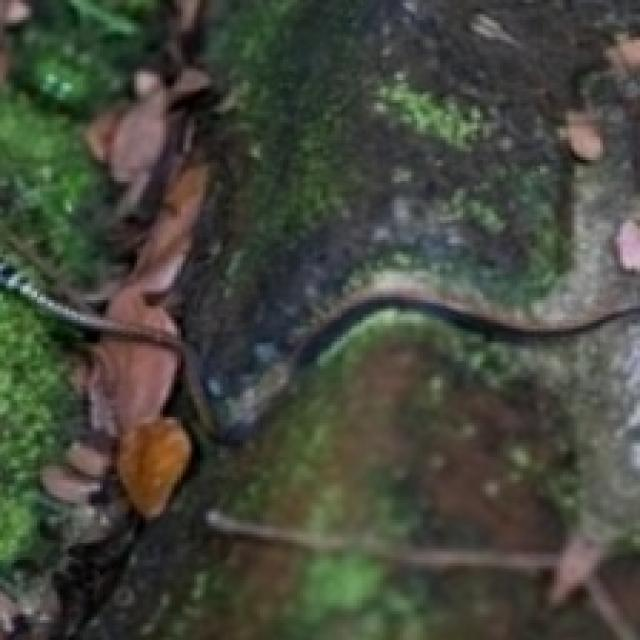paradise tree snake: (0, 0, 637, 637), (203, 506, 566, 606)
